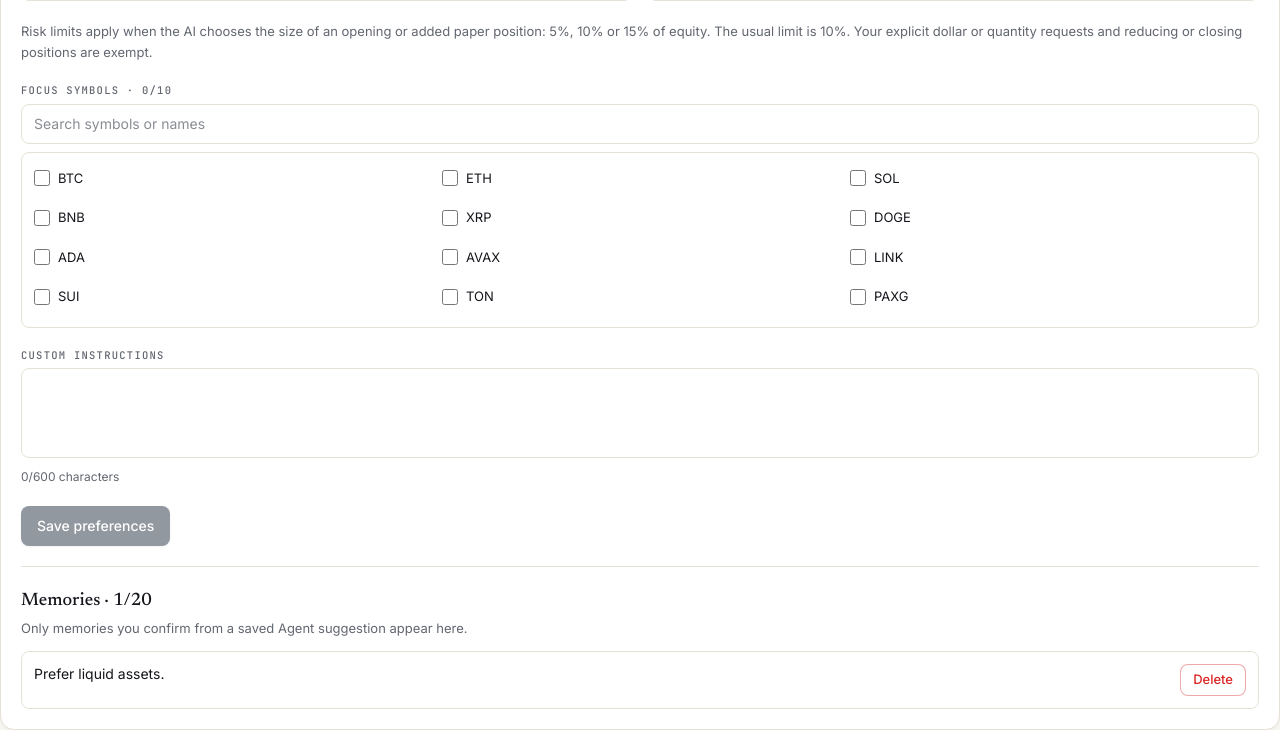
it: Account personalization › keeps the memory and draft on failure and retries only the explicit deletion
(page scrolled)
Click the button "Delete". click: (1213, 680)
box: [1180,664,1246,696]
(page scrolled)
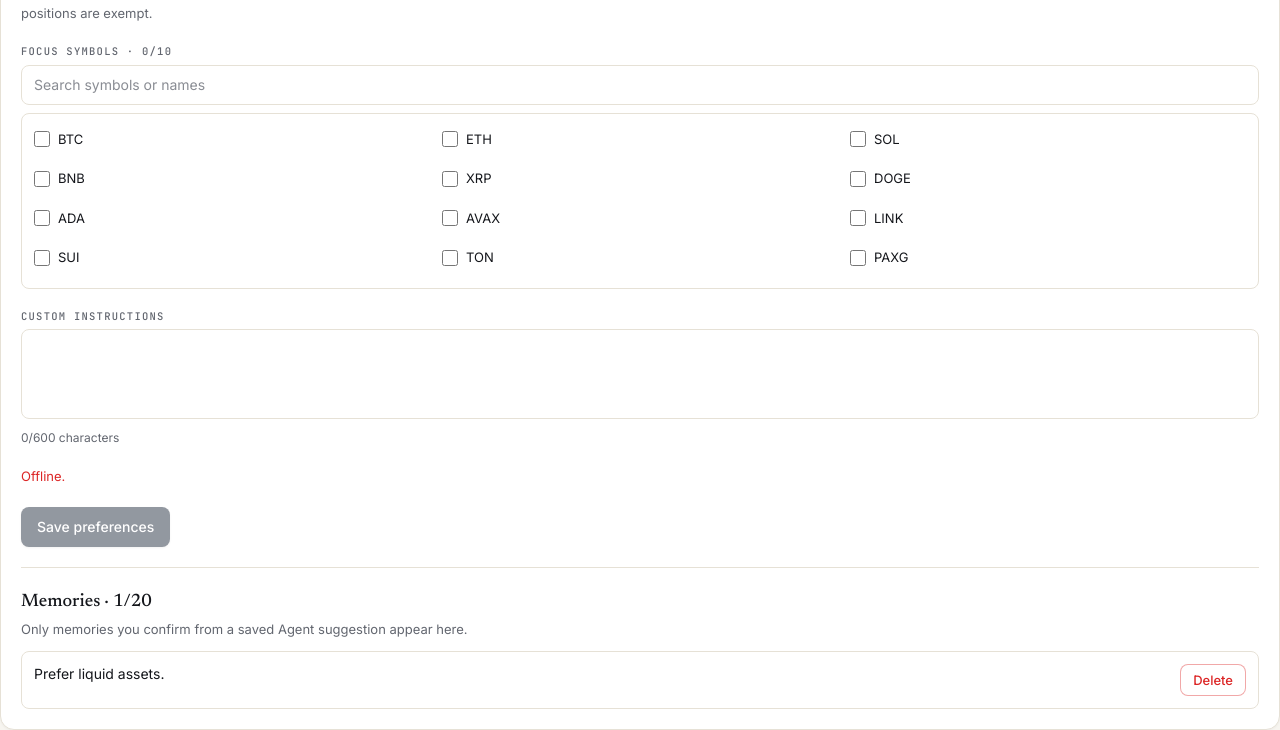
expect the element named "Saved memories" shows "Prefer liquid assets.": met, box [34,665,164,682]
expect the message reads "Offline.": met, box [21,468,65,484]
Click the button "Delete". click: (1213, 680)
box: [1180,664,1246,696]
(page scrolled)
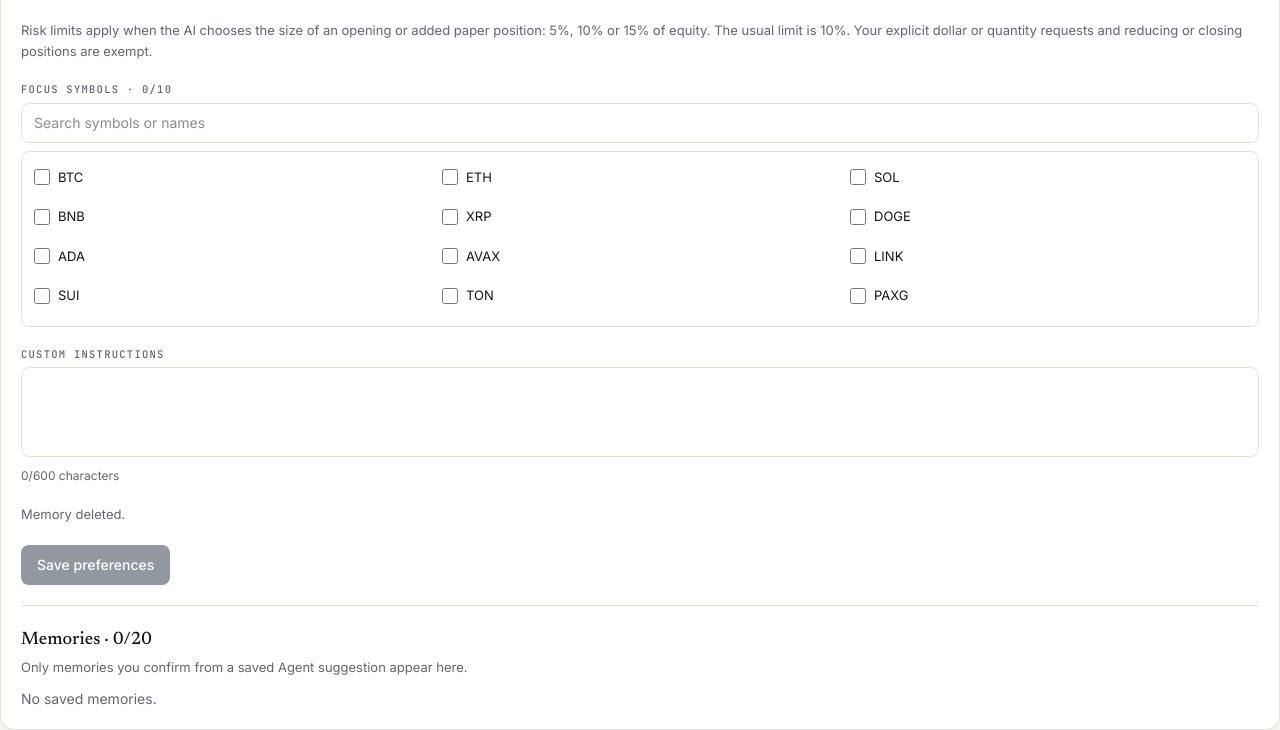
expect the text "No saved memories." is shown: met, box [21,690,157,707]
